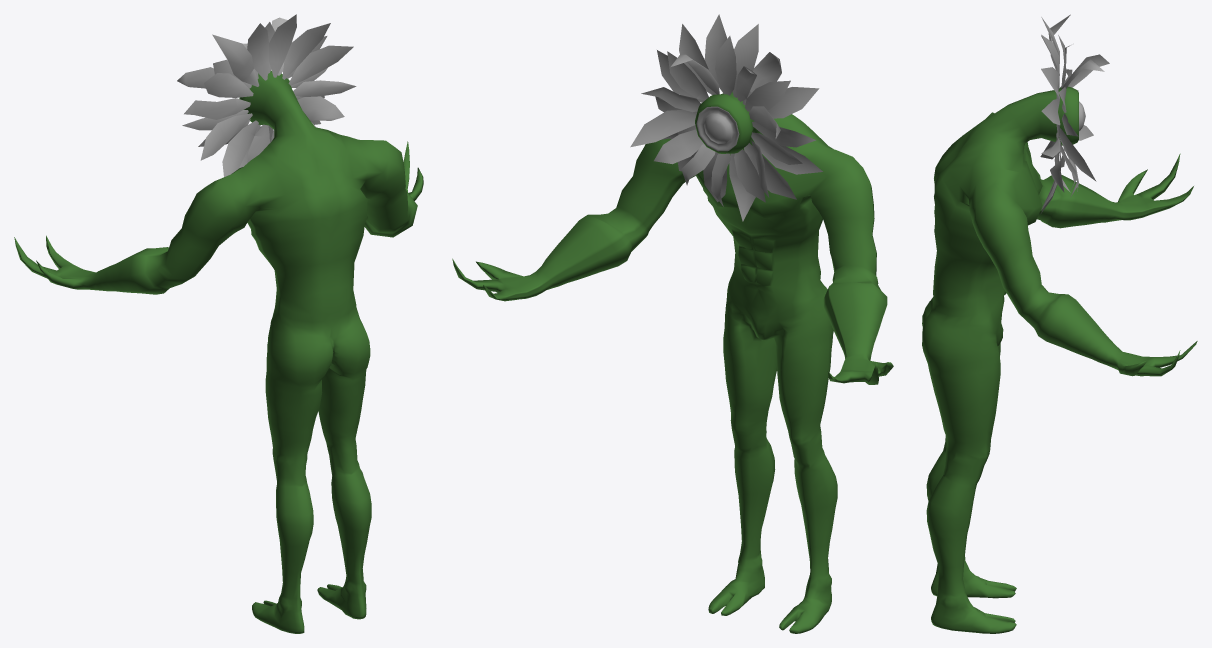
Rendered from MOD_BuffFlowerWITHUVS.fbx.
3 renders of one model, left to right at view 1: azimuth 30°, elevation 25°; view 2: azimuth 150°, elevation 25°; view 3: azimuth 270°, elevation 25°, orthographic. The views are drawn at different scales.
Visible parts, largest first — view 1: BuffFlower; view 2: BuffFlower; view 3: BuffFlower.
Part boxes in pixels (left/top/right/bottom): BuffFlower: left=14, top=14, right=423, bottom=633; BuffFlower: left=452, top=14, right=893, bottom=633; BuffFlower: left=922, top=14, right=1197, bottom=633.
Size of the model in its own units: 4.18 by 5.79 by 2.47.
